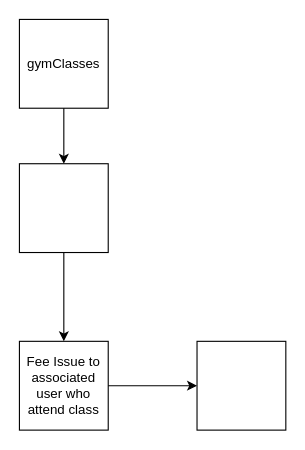
This 305x450 diagram has some shape labels left out. The shapes that lost their labels are listed below. From the top down, each one's centre as x and y in pixels, then its label:
the point at 63,208: admin assign class to user
the point at 241,385: Store Fee status and detail in table
